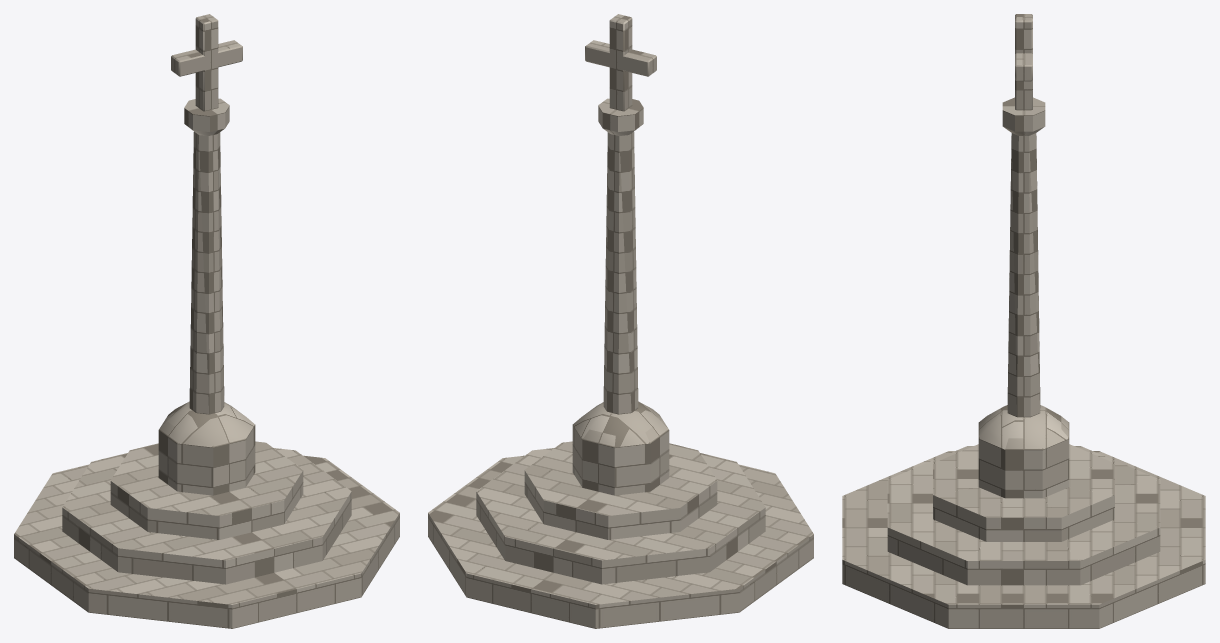
The model's file is market-cross.glb.
The picture shows the model from 3 angles, left to right: view 1: azimuth 30°, elevation 25°; view 2: azimuth 150°, elevation 25°; view 3: azimuth 270°, elevation 25°; orthographic projection.
Visible parts, largest first — view 1: Market_Cross; view 2: Market_Cross; view 3: Market_Cross.
Boxes of the visible parts, x1=… form: Market_Cross: x1=14, y1=14, x2=399, y2=628; Market_Cross: x1=428, y1=14, x2=813, y2=628; Market_Cross: x1=842, y1=14, x2=1205, y2=628.
Size of the model in its own units: 4.07 by 6.6 by 4.07.
Materials: 1 (1 with a texture image).
